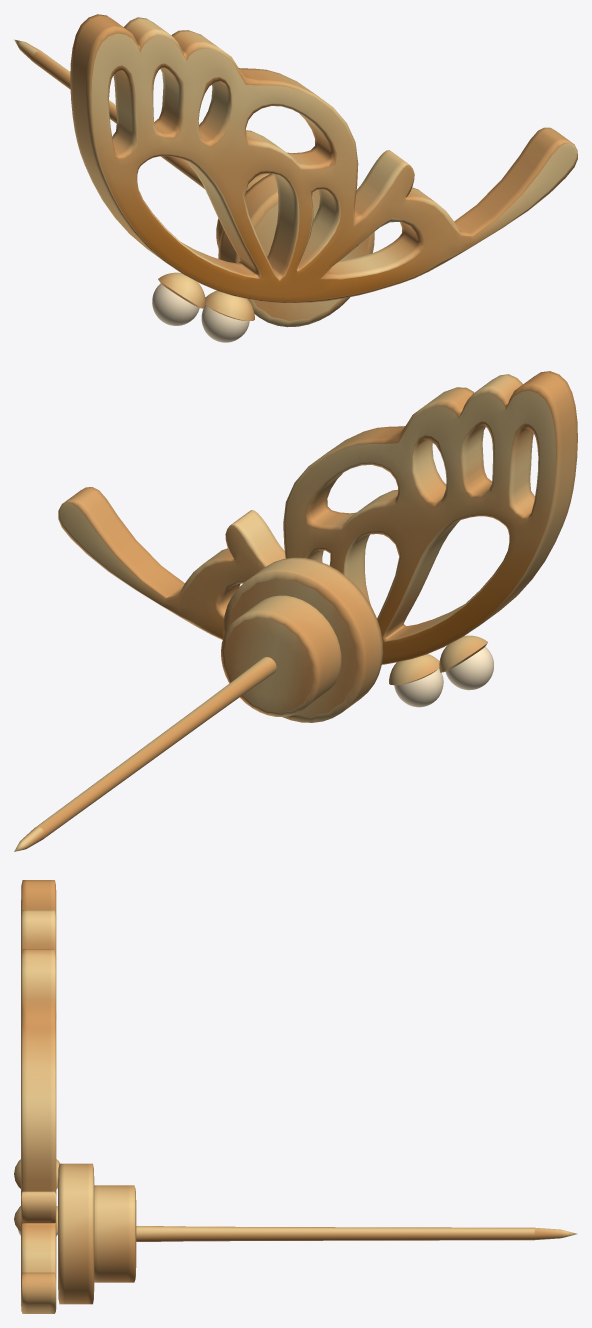
Rendered from piasu2.fbx.
3 renders of one model, top to bottom at view 1: azimuth 30°, elevation 25°; view 2: azimuth 150°, elevation 25°; view 3: azimuth 270°, elevation 25°, orthographic. The views are drawn at different scales.
Parts seen in each view (by area): view 1: pSphere12; view 2: pSphere12; view 3: pSphere12.
Part boxes in pixels (x1,y1,x2,y2): pSphere12: [14, 14, 577, 342]; pSphere12: [14, 371, 577, 851]; pSphere12: [14, 880, 576, 1313].
Bounding box in the file's own units: 54.8 × 38.97 × 61.57.
2 materials, 1 textured.
